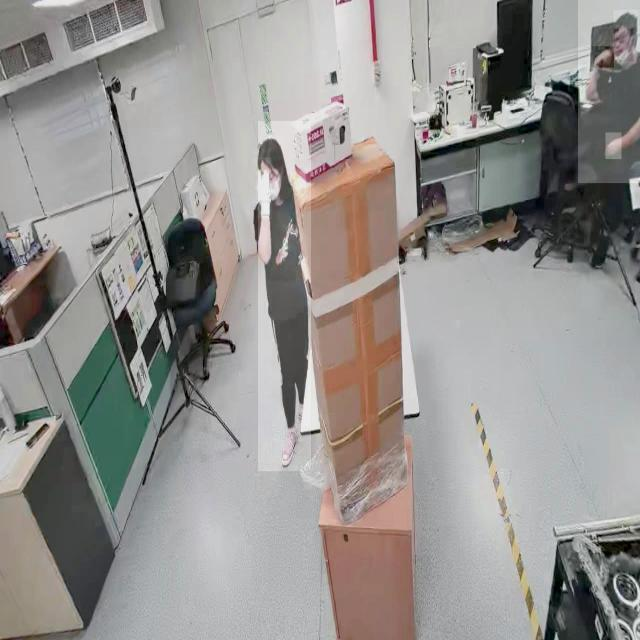face_nomask: (614, 29, 634, 62)
hand_glove: (256, 157, 272, 219)
hand_noglove: (592, 46, 614, 68), (605, 132, 621, 160)
head_nohelmet: (258, 137, 284, 161), (613, 10, 638, 28)
person: (257, 121, 311, 472), (578, 0, 640, 184)
shoes: (280, 419, 300, 467), (590, 230, 614, 270)
